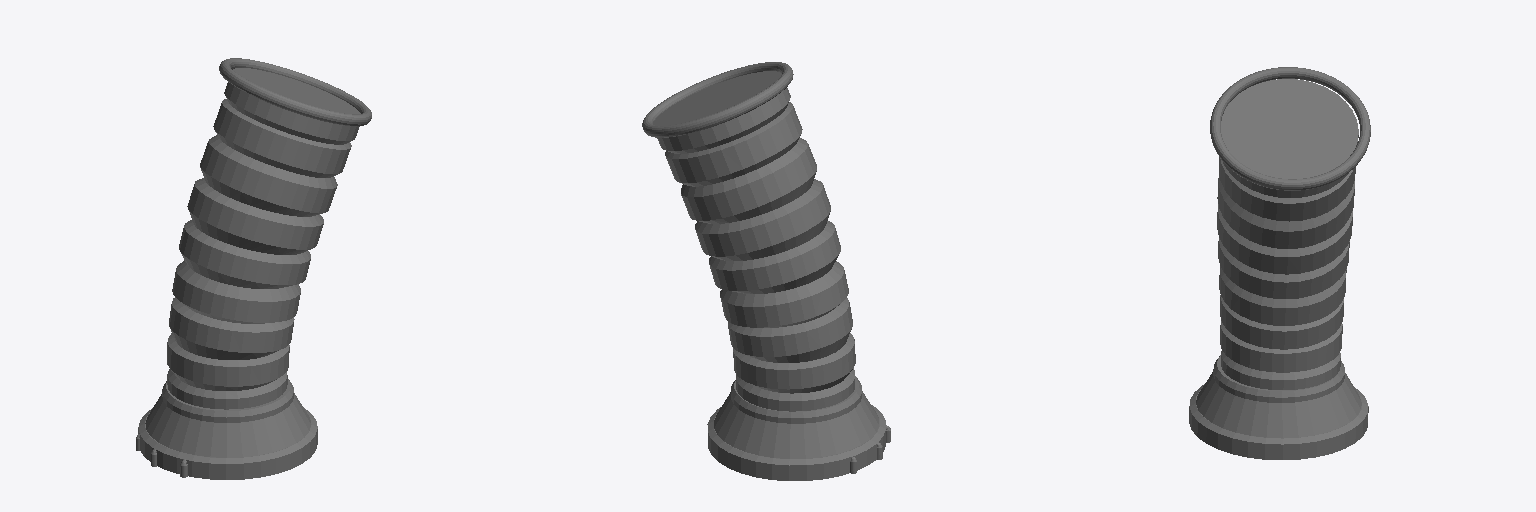
The model's file is goddard_pata2.obj.
3 renders of one model, left to right at view 1: azimuth 30°, elevation 25°; view 2: azimuth 150°, elevation 25°; view 3: azimuth 270°, elevation 25°, orthographic.
Parts seen in each view (by area): view 1: C_rculo_006_C_rculo_007, C_rculo_012_C_rculo_013, C_rculo_011_C_rculo_012, C_rculo_001, C_rculo_013_C_rculo_014; view 2: C_rculo_006_C_rculo_007, C_rculo_012_C_rculo_013, C_rculo_011_C_rculo_012, C_rculo_001, C_rculo_013_C_rculo_014; view 3: C_rculo_006_C_rculo_007, C_rculo_012_C_rculo_013, C_rculo_001, C_rculo_011_C_rculo_012, C_rculo_013_C_rculo_014.
Boxes of the visible parts, box(x1,y1,x2,y2) form: C_rculo_006_C_rculo_007: box(167, 68, 360, 409); C_rculo_012_C_rculo_013: box(145, 393, 310, 457); C_rculo_011_C_rculo_012: box(138, 408, 317, 479); C_rculo_001: box(219, 58, 371, 125); C_rculo_013_C_rculo_014: box(162, 379, 293, 422); C_rculo_006_C_rculo_007: box(653, 71, 855, 411); C_rculo_012_C_rculo_013: box(714, 391, 878, 458); C_rculo_011_C_rculo_012: box(707, 405, 885, 480); C_rculo_001: box(642, 62, 793, 137); C_rculo_013_C_rculo_014: box(731, 376, 861, 423); C_rculo_006_C_rculo_007: box(1217, 79, 1358, 389); C_rculo_012_C_rculo_013: box(1196, 372, 1361, 437); C_rculo_001: box(1210, 67, 1370, 190); C_rculo_011_C_rculo_012: box(1189, 384, 1368, 459); C_rculo_013_C_rculo_014: box(1213, 355, 1344, 402).
Size of the model in its own units: 1.45 by 2.3 by 1.04.